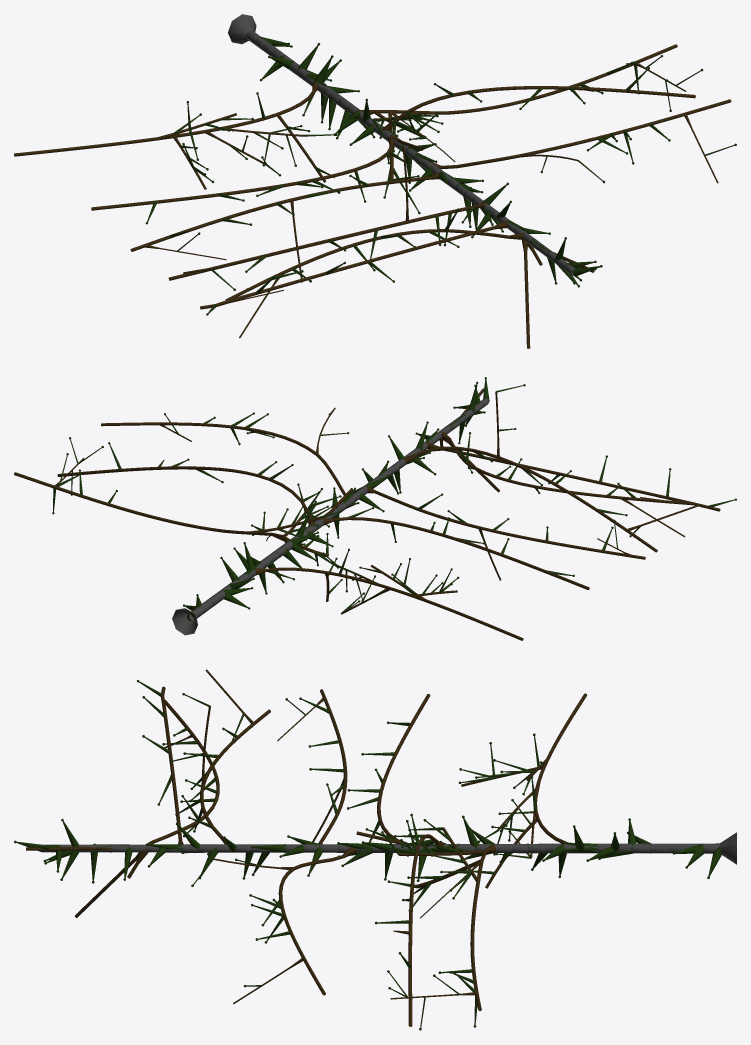
File: tree_7.obj
3 views of the same model, one above another, from view 1: azimuth 30°, elevation 25°; view 2: azimuth 150°, elevation 25°; view 3: azimuth 270°, elevation 25° (orthographic). The views are drawn at different scales.
Bounding box in the file's own units: 4.4 × 1.17 × 4.16.
